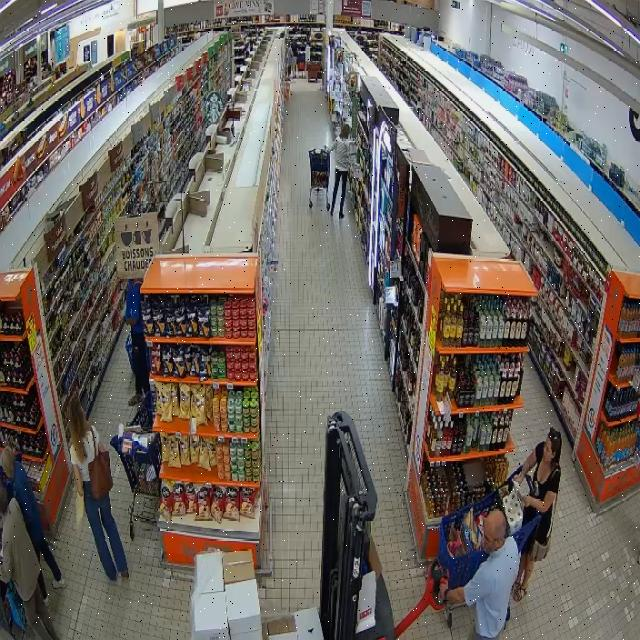bags: (531, 495, 558, 561), (89, 428, 112, 500)
hands: (440, 580, 448, 602), (514, 472, 524, 484), (523, 495, 533, 507), (125, 318, 137, 326)
person: (69, 394, 129, 581), (440, 509, 519, 639), (0, 447, 65, 588), (0, 486, 58, 639), (513, 428, 561, 602), (125, 279, 149, 405), (328, 125, 349, 218)
